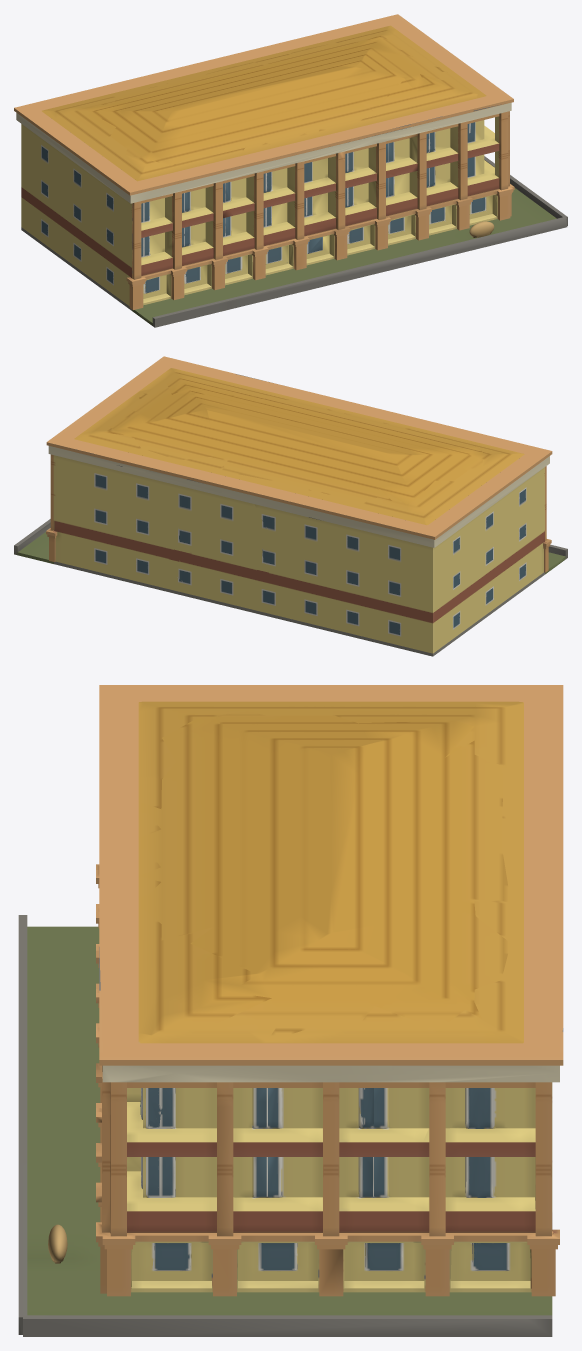
File: khach_san_grand_canh_nam.mid.glb
The picture shows the model from 3 angles, top to bottom: view 1: azimuth 30°, elevation 25°; view 2: azimuth 150°, elevation 25°; view 3: azimuth 270°, elevation 25°; orthographic projection. The views are drawn at different scales.
Visible parts, largest first — view 1: khach_san_grand_canh_nam; view 2: khach_san_grand_canh_nam; view 3: khach_san_grand_canh_nam.
Boxes of the visible parts, x1,y1,x2,y2 form: khach_san_grand_canh_nam: [14, 14, 567, 327]; khach_san_grand_canh_nam: [14, 356, 567, 656]; khach_san_grand_canh_nam: [18, 685, 563, 1336].
Size of the model in its own units: 44.4 by 13.75 by 25.
3 materials, 3 textured.
